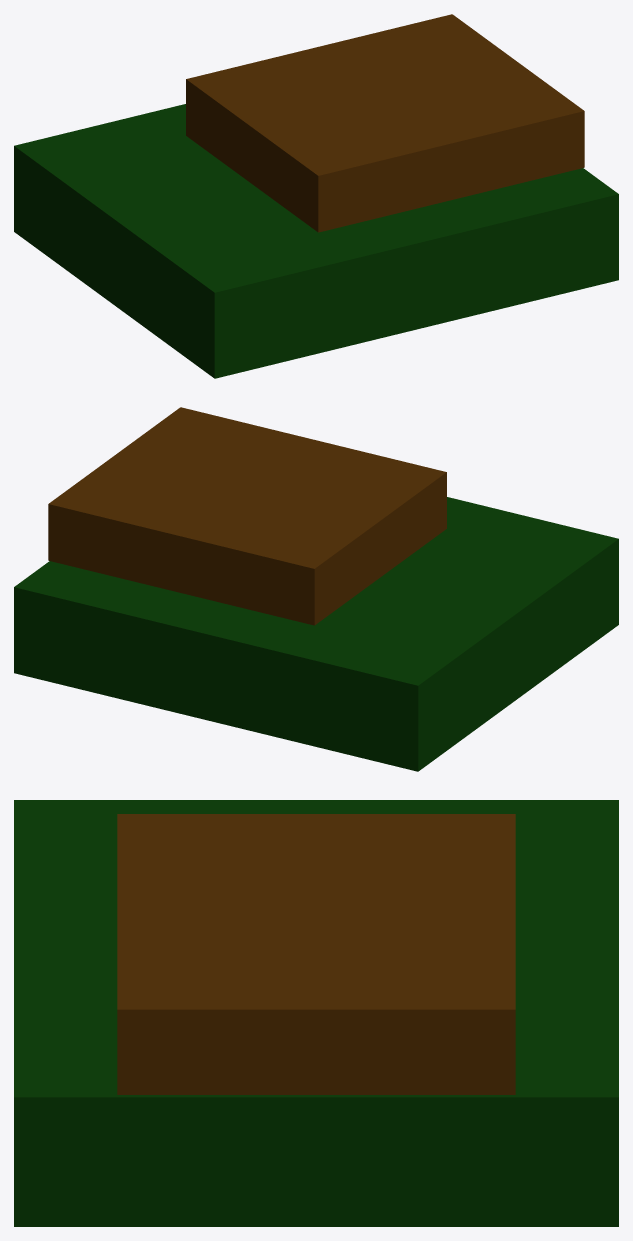
The model's file is Book1.fbx.
The picture shows the model from 3 angles, top to bottom: view 1: azimuth 30°, elevation 25°; view 2: azimuth 150°, elevation 25°; view 3: azimuth 270°, elevation 25°; orthographic projection. The views are drawn at different scales.
Visible parts, largest first — view 1: Books1; view 2: Books1; view 3: Books1.
Boxes of the visible parts, x1,y1,x2,y2 form: Books1: (14,14,618,378); Books1: (14,407,618,771); Books1: (14,800,618,1226).
Bounding box in the file's own units: 2.24 × 0.7634 × 1.93.
